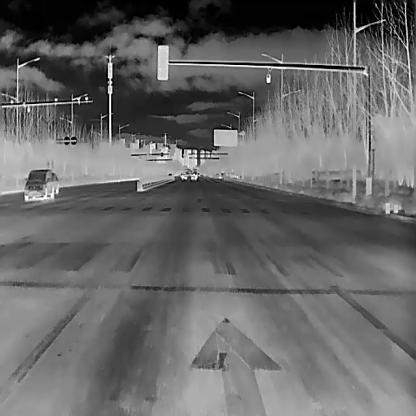car: (24, 167, 53, 201), (50, 172, 58, 192), (189, 170, 197, 180), (180, 171, 186, 179)
